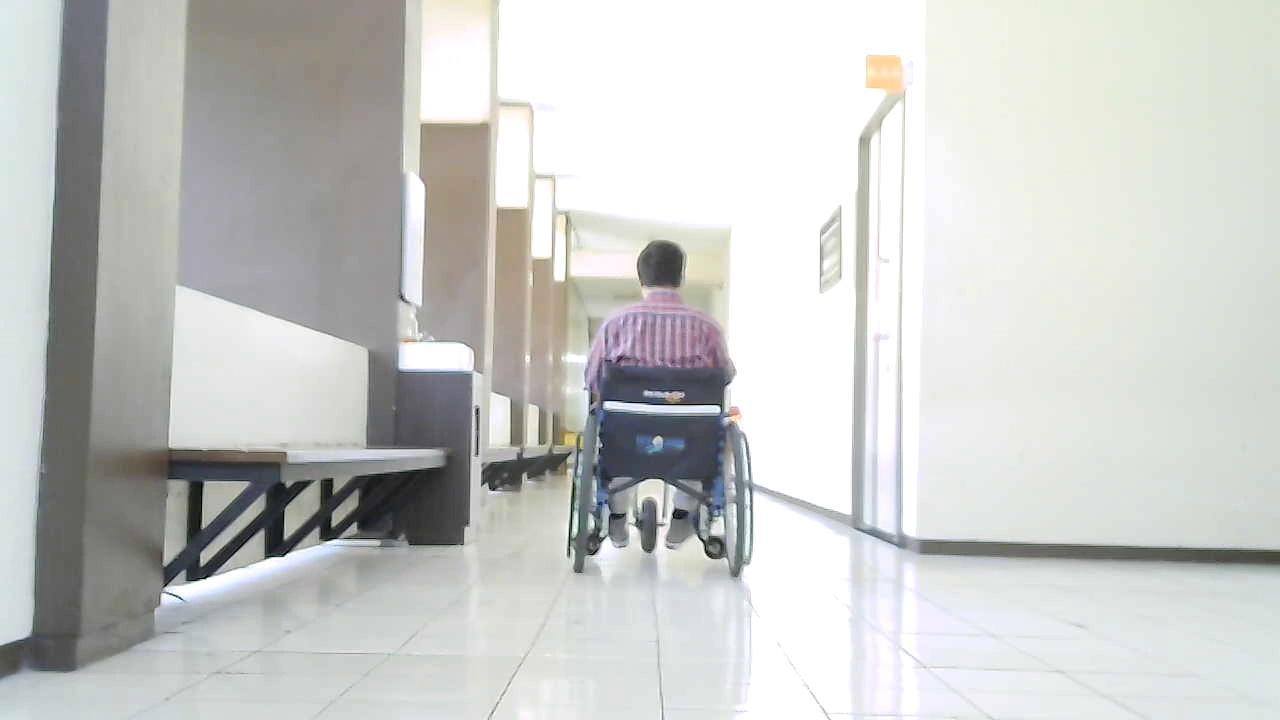wheelchair: (550, 349, 784, 599)
